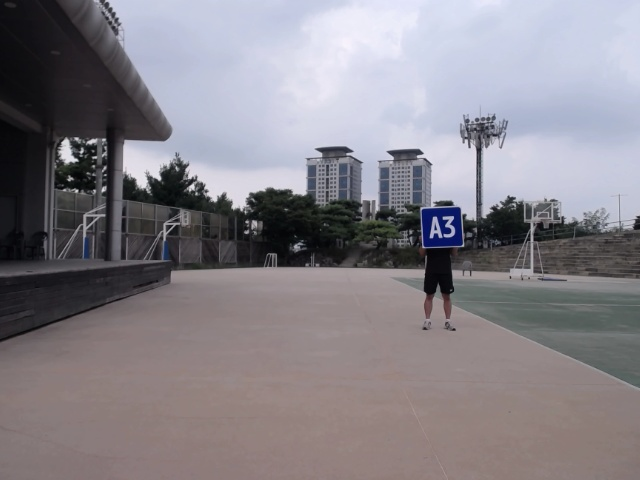delivery_a3: (421, 206, 463, 248)
